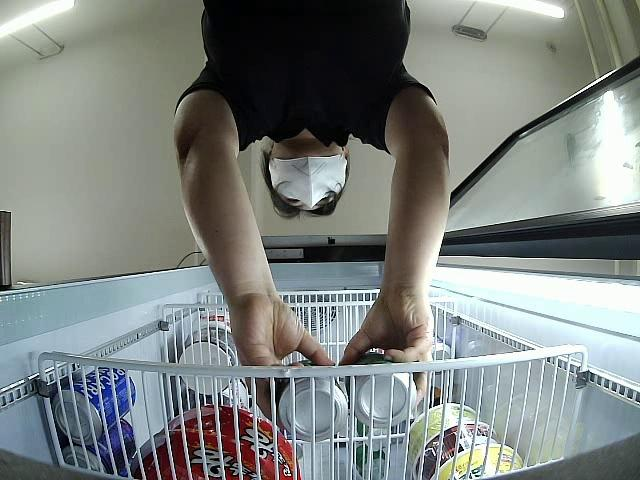00_hand: (232, 295, 333, 419), (339, 299, 435, 409)
12_chilsungCider: (343, 349, 417, 427), (276, 359, 347, 436)
